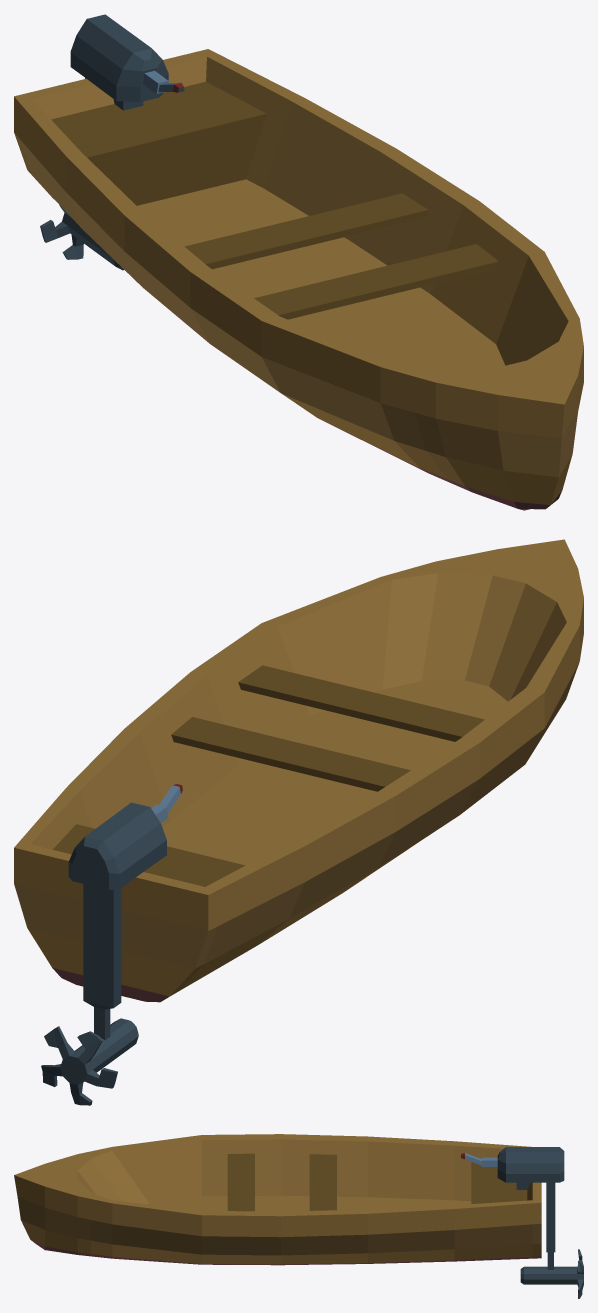
Rendered from Wood_BoatV2.glb.
The picture shows the model from 3 angles, top to bottom: view 1: azimuth 30°, elevation 25°; view 2: azimuth 150°, elevation 25°; view 3: azimuth 270°, elevation 25°; orthographic projection. The views are drawn at different scales.
Visible parts, largest first — view 1: Wood_BoatV2; view 2: Wood_BoatV2; view 3: Wood_BoatV2.
Boxes of the visible parts, x1,y1,x2,y2 form: Wood_BoatV2: [14, 14, 583, 510]; Wood_BoatV2: [14, 539, 583, 1105]; Wood_BoatV2: [14, 1134, 583, 1298].
Bounding box in the file's own units: 1.49 × 1.24 × 4.36.
1 material, 1 textured.
